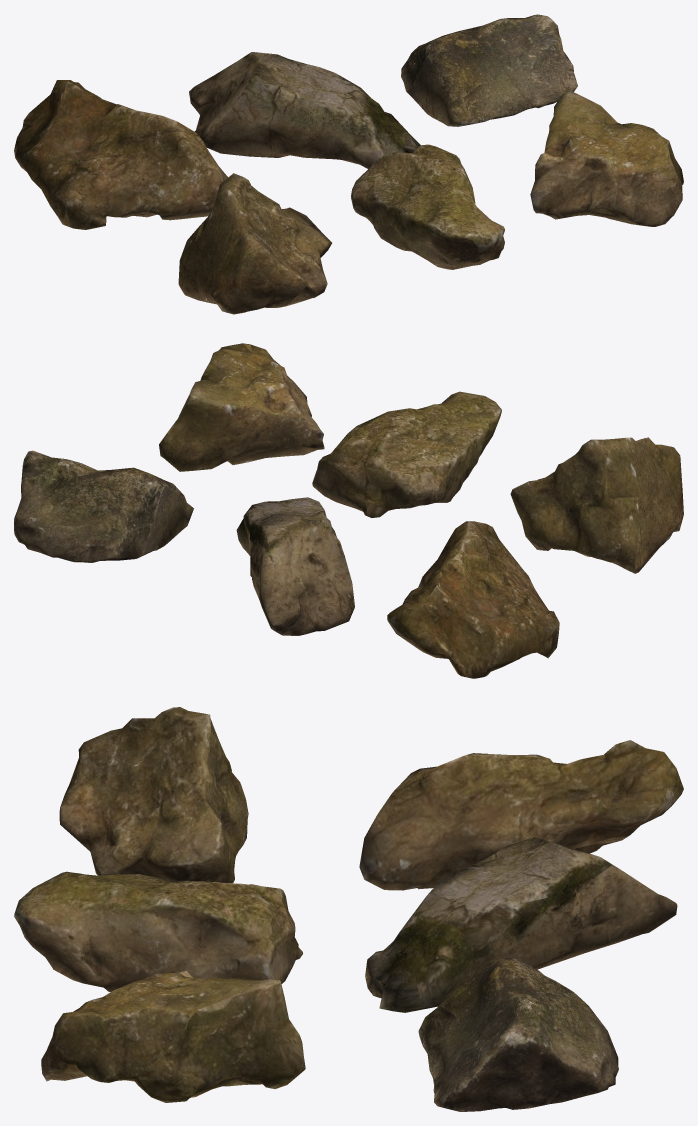
File: rocks.glb
3 renders of one model, top to bottom at view 1: azimuth 30°, elevation 25°; view 2: azimuth 150°, elevation 25°; view 3: azimuth 270°, elevation 25°, orthographic. The views are drawn at different scales.
Parts seen in each view (by area): view 1: rock_moss_set_01_rock01, rock_moss_set_01_rock02, rock_moss_set_01_rock06, rock_moss_set_01_rock04, rock_moss_set_01_rock03, rock_moss_set_01_rock05; view 2: rock_moss_set_01_rock04, rock_moss_set_01_rock01, rock_moss_set_01_rock05, rock_moss_set_01_rock03, rock_moss_set_01_rock06, rock_moss_set_01_rock02; view 3: rock_moss_set_01_rock01, rock_moss_set_01_rock02, rock_moss_set_01_rock05, rock_moss_set_01_rock04, rock_moss_set_01_rock06, rock_moss_set_01_rock03.
Part boxes in pixels (box(x1,y1,x2,y2)): rock_moss_set_01_rock01: box(14, 80, 227, 229); rock_moss_set_01_rock02: box(189, 52, 420, 168); rock_moss_set_01_rock06: box(530, 90, 683, 226); rock_moss_set_01_rock04: box(178, 173, 331, 314); rock_moss_set_01_rock03: box(401, 14, 577, 126); rock_moss_set_01_rock05: box(351, 144, 504, 269); rock_moss_set_01_rock04: box(510, 437, 683, 573); rock_moss_set_01_rock01: box(387, 521, 559, 678); rock_moss_set_01_rock05: box(312, 391, 501, 517); rock_moss_set_01_rock03: box(14, 450, 193, 562); rock_moss_set_01_rock06: box(159, 343, 324, 471); rock_moss_set_01_rock02: box(236, 497, 354, 635); rock_moss_set_01_rock01: box(359, 740, 683, 890); rock_moss_set_01_rock02: box(365, 837, 677, 1012); rock_moss_set_01_rock05: box(14, 871, 302, 991); rock_moss_set_01_rock04: box(59, 707, 248, 883); rock_moss_set_01_rock06: box(41, 970, 305, 1102); rock_moss_set_01_rock03: box(418, 956, 618, 1111).
Bounding box in the file's own units: 8 × 1.76 × 6.94.
Materials: 1 (1 with a texture image).
